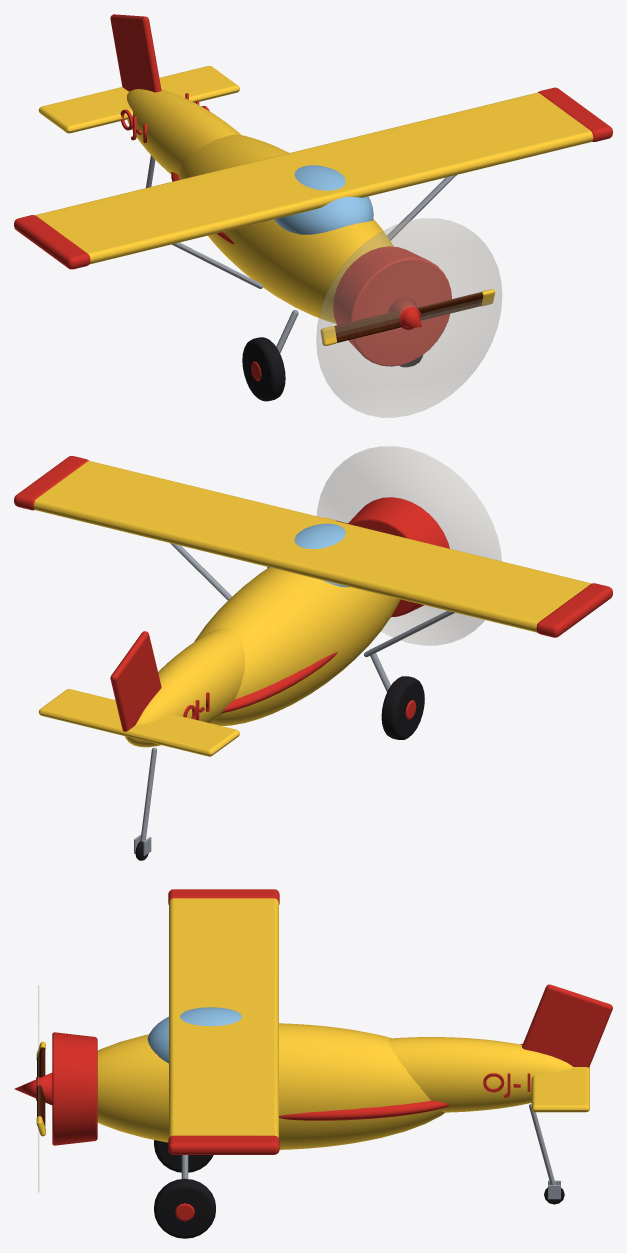
3 renders of one model, top to bottom at view 1: azimuth 30°, elevation 25°; view 2: azimuth 150°, elevation 25°; view 3: azimuth 270°, elevation 25°, orthographic. The views are drawn at different scales.
Parts seen in each view (by area): view 1: prop_disc, wing, wing.001, fuselage, cowl, tailcone, stabilizer, windows, fin, wheel, wing_tip, wing_center (+6 smaller); view 2: fuselage, wing.001, wing, prop_disc, tailcone, stabilizer, cowl, fin, wheel, wing_center, wing_tip, wing_tip.001 (+4 smaller); view 3: fuselage, wing, wing.001, tailcone, cowl, fin, wheel.001, stabilizer, wing_tip.001, stripe, windows, wing_tip (+3 smaller).
Boxes of the visible parts, x1,y1,x2,y2 form: prop_disc: (316, 218, 501, 417); wing: (35, 155, 336, 264); wing.001: (291, 92, 593, 197); fuselage: (178, 134, 393, 323); cowl: (333, 246, 451, 366); tailcone: (127, 89, 241, 174); stabilizer: (38, 66, 239, 133); windows: (274, 165, 373, 234); fin: (110, 14, 161, 92); wheel: (242, 337, 285, 401); wing_tip: (14, 215, 90, 269); wing_center: (263, 148, 366, 208); fuselage: (194, 567, 400, 725); wing.001: (33, 461, 334, 565); wing: (289, 523, 591, 632); prop_disc: (317, 446, 501, 645); tailcone: (125, 628, 244, 747); stabilizer: (39, 689, 239, 756); cowl: (348, 497, 449, 617); fin: (110, 631, 161, 731); wheel: (381, 676, 424, 739); wing_center: (260, 516, 364, 576); wing_tip: (536, 583, 612, 637); wing_tip.001: (14, 456, 88, 510); fuselage: (97, 1023, 444, 1149); wing: (169, 898, 278, 1018); wing.001: (169, 1020, 278, 1137); tailcone: (389, 1037, 573, 1112); cowl: (52, 1032, 97, 1145); fin: (522, 984, 612, 1067); wheel.001: (154, 1178, 215, 1238); stabilizer: (531, 1066, 589, 1112); wing_tip.001: (168, 1135, 279, 1154); stripe: (279, 1100, 449, 1120); windows: (147, 1007, 241, 1063); wing_tip: (168, 889, 279, 904).
Bounding box in the file's own units: 4.7 × 1.87 × 4.62.
7 materials, 1 textured.
